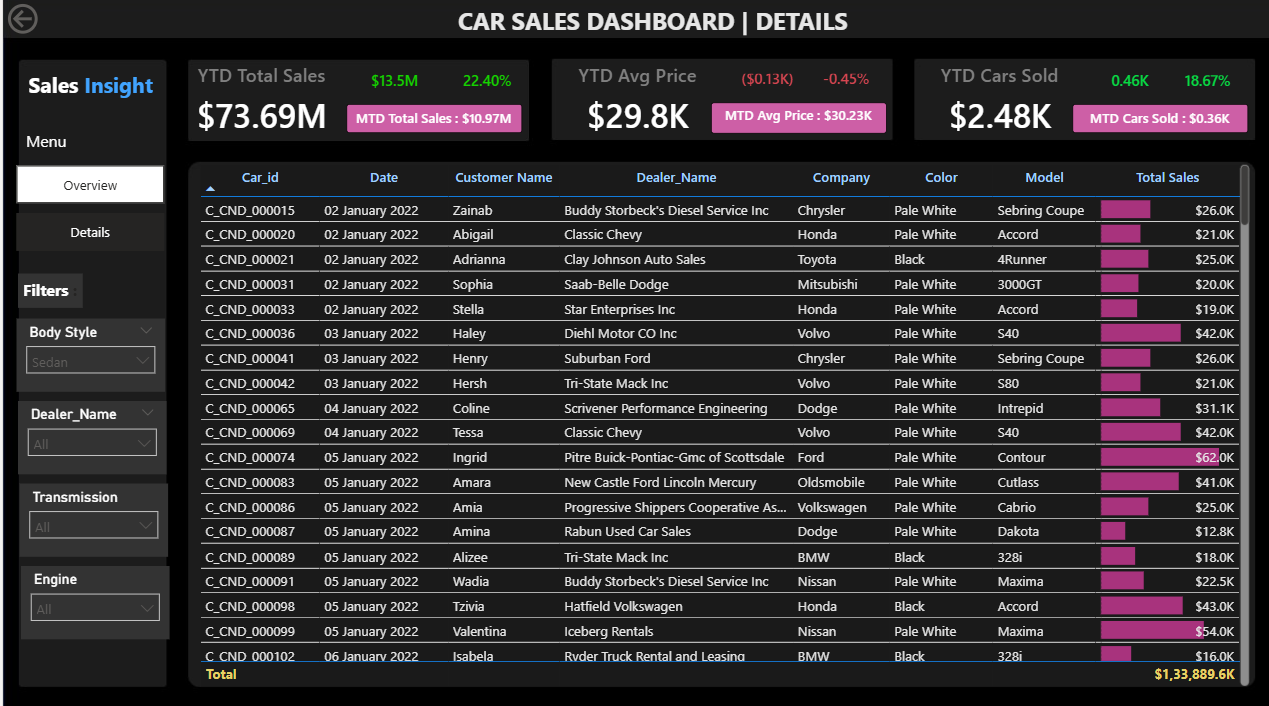

Layout of this report page (visuals, bound fields, positions):
{"tool":"powerbi","page":{"name":"Details","canvas":[1280,720],"ordinal":1},"visuals":[{"type":"card","title":"YTD Total Sales","fields":{"Values":["car_data.YTD Total Sales"]},"box":[177.8,63.3,167.8,83.3],"z":0},{"type":"card","fields":{"Values":["car_data.Sales Difference"]},"box":[348.9,70,93.3,25.6],"z":1000},{"type":"card","fields":{"Values":["car_data.YoY Sales Growth"]},"box":[442.1,69.7,92.4,25.7],"z":2000},{"type":"card","fields":{"Values":["car_data.MTD KPI"]},"box":[346.3,105.6,177,29.5],"z":3000},{"type":"card","title":"YTD Avg Price","fields":{"Values":["car_data.YTD Avg Price"]},"box":[556.7,63.3,166.7,83.3],"z":4000},{"type":"card","fields":{"Values":["car_data.Avg Price Diff"]},"box":[723.3,68.3,95,25],"z":5000},{"type":"card","fields":{"Values":["car_data.YoY Avg Price Growth"]},"box":[803.3,68.3,93.3,25],"z":6000},{"type":"card","fields":{"Values":["car_data.MTD Avg Price KPI"]},"box":[714.3,104,177,31.1],"z":7000},{"type":"card","title":"YTD Cars Sold","fields":{"Values":["car_data.YTD Cars Sold"]},"box":[922.2,63.6,168.1,83.3],"z":8000},{"type":"card","fields":{"Values":["car_data.Cars Sold Diff"]},"box":[1090.2,69.7,93.9,25.7],"z":9000},{"type":"card","fields":{"Values":["car_data.YoY Car Sold Growth"]},"box":[1168.3,70,93.3,25],"z":10000},{"type":"card","fields":{"Values":["car_data.MTD Cars Sold KPI"]},"box":[1079.2,105.6,177,29.5],"z":11000},{"type":"actionButton","box":[0,0,100,40],"z":12000},{"type":"textbox","box":[455,0,441.7,41.7],"z":13000},{"type":"slicer","fields":{"Values":["car_data.Body Style"]},"box":[13.6,322.5,149.9,74.2],"z":14000},{"type":"slicer","fields":{"Values":["car_data.Dealer_Name"]},"box":[15.1,405.8,149.9,74.2],"z":15000},{"type":"slicer","fields":{"Values":["car_data.Engine"]},"box":[18.2,572.4,149.9,74.2],"z":16000},{"type":"slicer","fields":{"Values":["car_data.Transmission"]},"box":[16.7,489.1,149.9,74.2],"z":17000},{"type":"textbox","box":[15.1,277.1,65.1,34.8],"z":18000},{"type":"tableEx","fields":{"Values":["car_data.Car_id","car_data.Date","car_data.Customer Name","car_data.Dealer_Name","car_data.Company","car_data.Color","car_data.Model","car_data.Total Sales"]},"box":[193.8,162,1069,536],"z":19000},{"type":"textbox","box":[13.6,66.6,149.9,42.4],"z":20000},{"type":"textbox","box":[18.2,127.2,75.7,40.9],"z":21000},{"type":"pageNavigator","box":[13.6,168.1,149.9,87.8],"z":22000}]}

Visuals, with their boxes on the page's 1280x720 design canvas (x1, y1, x2, y2). These are canvas units, not pixel positions in the 1269x706 screenshot, which may show the page scaled, cropped or inside an application window:
"YTD Total Sales" card: (178, 63, 346, 147)
card - car_data.Sales Difference: (349, 70, 442, 96)
card - car_data.YoY Sales Growth: (442, 70, 534, 95)
card - car_data.MTD KPI: (346, 106, 523, 135)
"YTD Avg Price" card: (557, 63, 723, 147)
card - car_data.Avg Price Diff: (723, 68, 818, 93)
card - car_data.YoY Avg Price Growth: (803, 68, 897, 93)
card - car_data.MTD Avg Price KPI: (714, 104, 891, 135)
"YTD Cars Sold" card: (922, 64, 1090, 147)
card - car_data.Cars Sold Diff: (1090, 70, 1184, 95)
card - car_data.YoY Car Sold Growth: (1168, 70, 1262, 95)
card - car_data.MTD Cars Sold KPI: (1079, 106, 1256, 135)
actionButton: (0, 0, 100, 40)
textbox: (455, 0, 897, 42)
slicer - car_data.Body Style: (14, 322, 164, 397)
slicer - car_data.Dealer_Name: (15, 406, 165, 480)
slicer - car_data.Engine: (18, 572, 168, 647)
slicer - car_data.Transmission: (17, 489, 167, 563)
textbox: (15, 277, 80, 312)
tableEx - car_data.Car_id x car_data.Date: (194, 162, 1263, 698)
textbox: (14, 67, 164, 109)
textbox: (18, 127, 94, 168)
pageNavigator: (14, 168, 164, 256)
